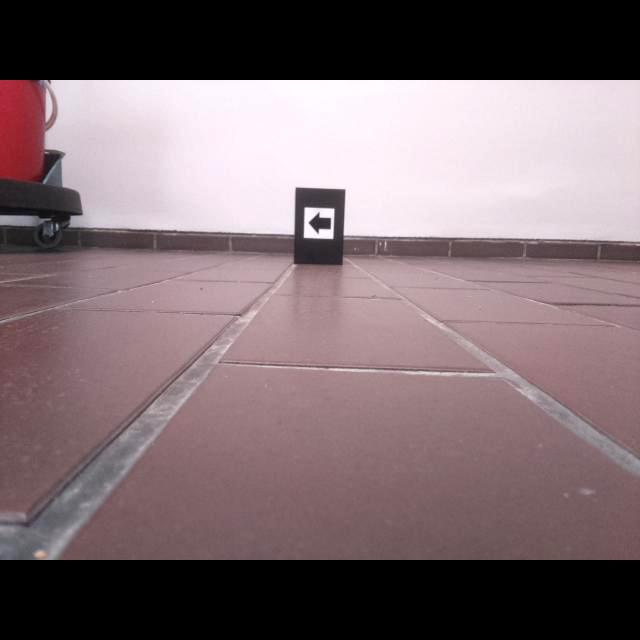LEFT: (308, 211, 332, 236)
